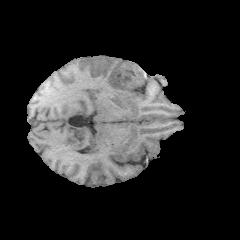glioma: (107, 59, 146, 102)
